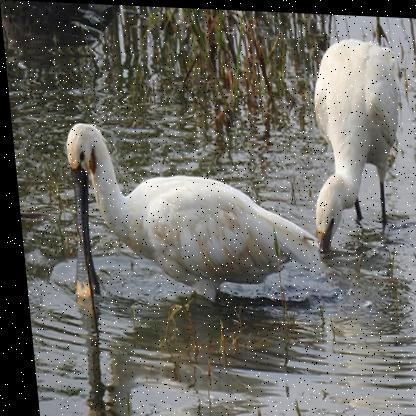Burung: (55, 121, 328, 336), (297, 32, 408, 258)
